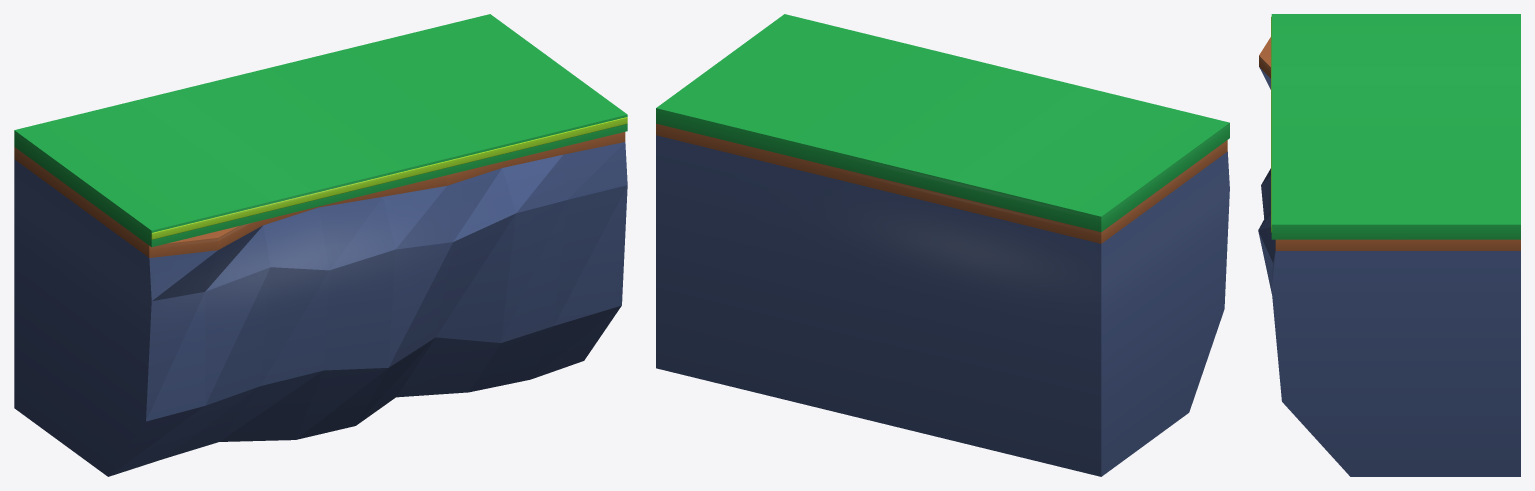
The model's file is CliffStraightB.fbx.
The picture shows the model from 3 angles, left to right: view 1: azimuth 30°, elevation 25°; view 2: azimuth 150°, elevation 25°; view 3: azimuth 270°, elevation 25°; orthographic projection. The views are drawn at different scales.
Visible parts, largest first — view 1: CliffStraightB; view 2: CliffStraightB; view 3: CliffStraightB.
Part boxes in pixels (box(x1,y1,x2,y2)): CliffStraightB: box(14, 14, 627, 476); CliffStraightB: box(656, 14, 1229, 476); CliffStraightB: box(1258, 14, 1520, 476).
Size of the model in its own units: 24 by 13.4 by 12.64.
1 material, 1 textured.
